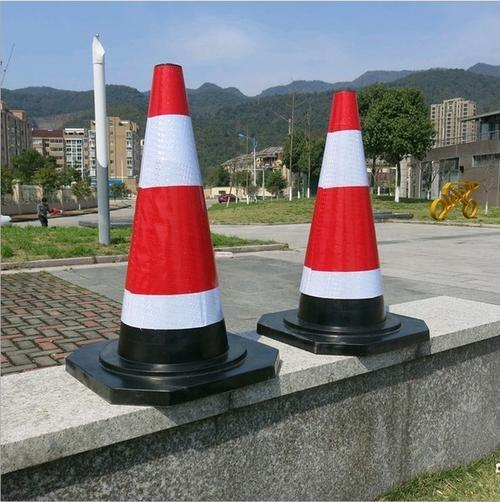cone_barrel: (96, 62, 248, 389), (278, 93, 401, 340)
